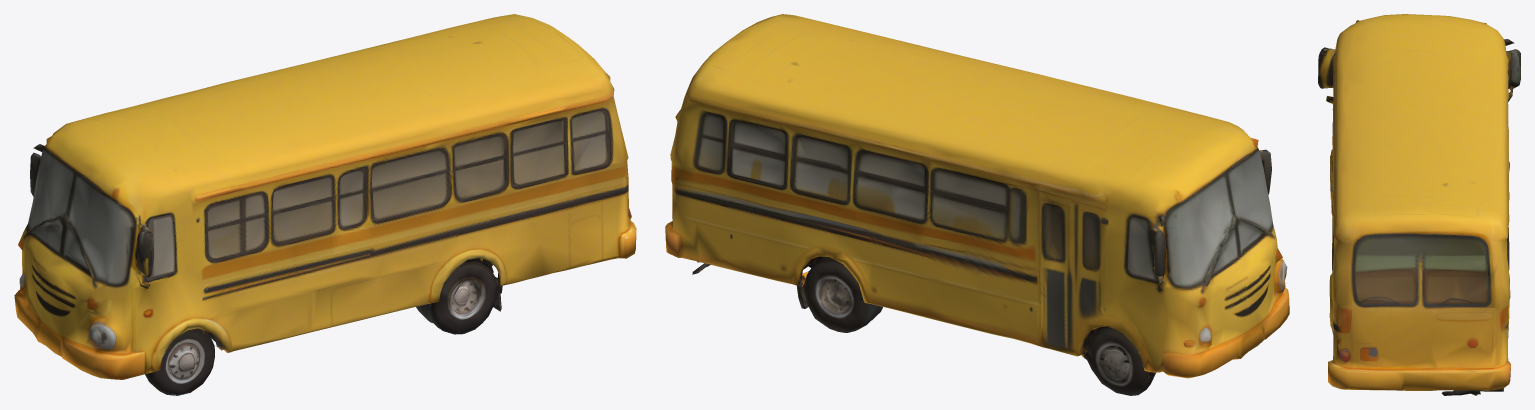
File: bus.glb
The picture shows the model from 3 angles, left to right: view 1: azimuth 30°, elevation 25°; view 2: azimuth 150°, elevation 25°; view 3: azimuth 270°, elevation 25°; orthographic projection. The views are drawn at different scales.
Bounding box in the file's own units: 65641 × 26726 × 24210.
1 material, 1 textured.
